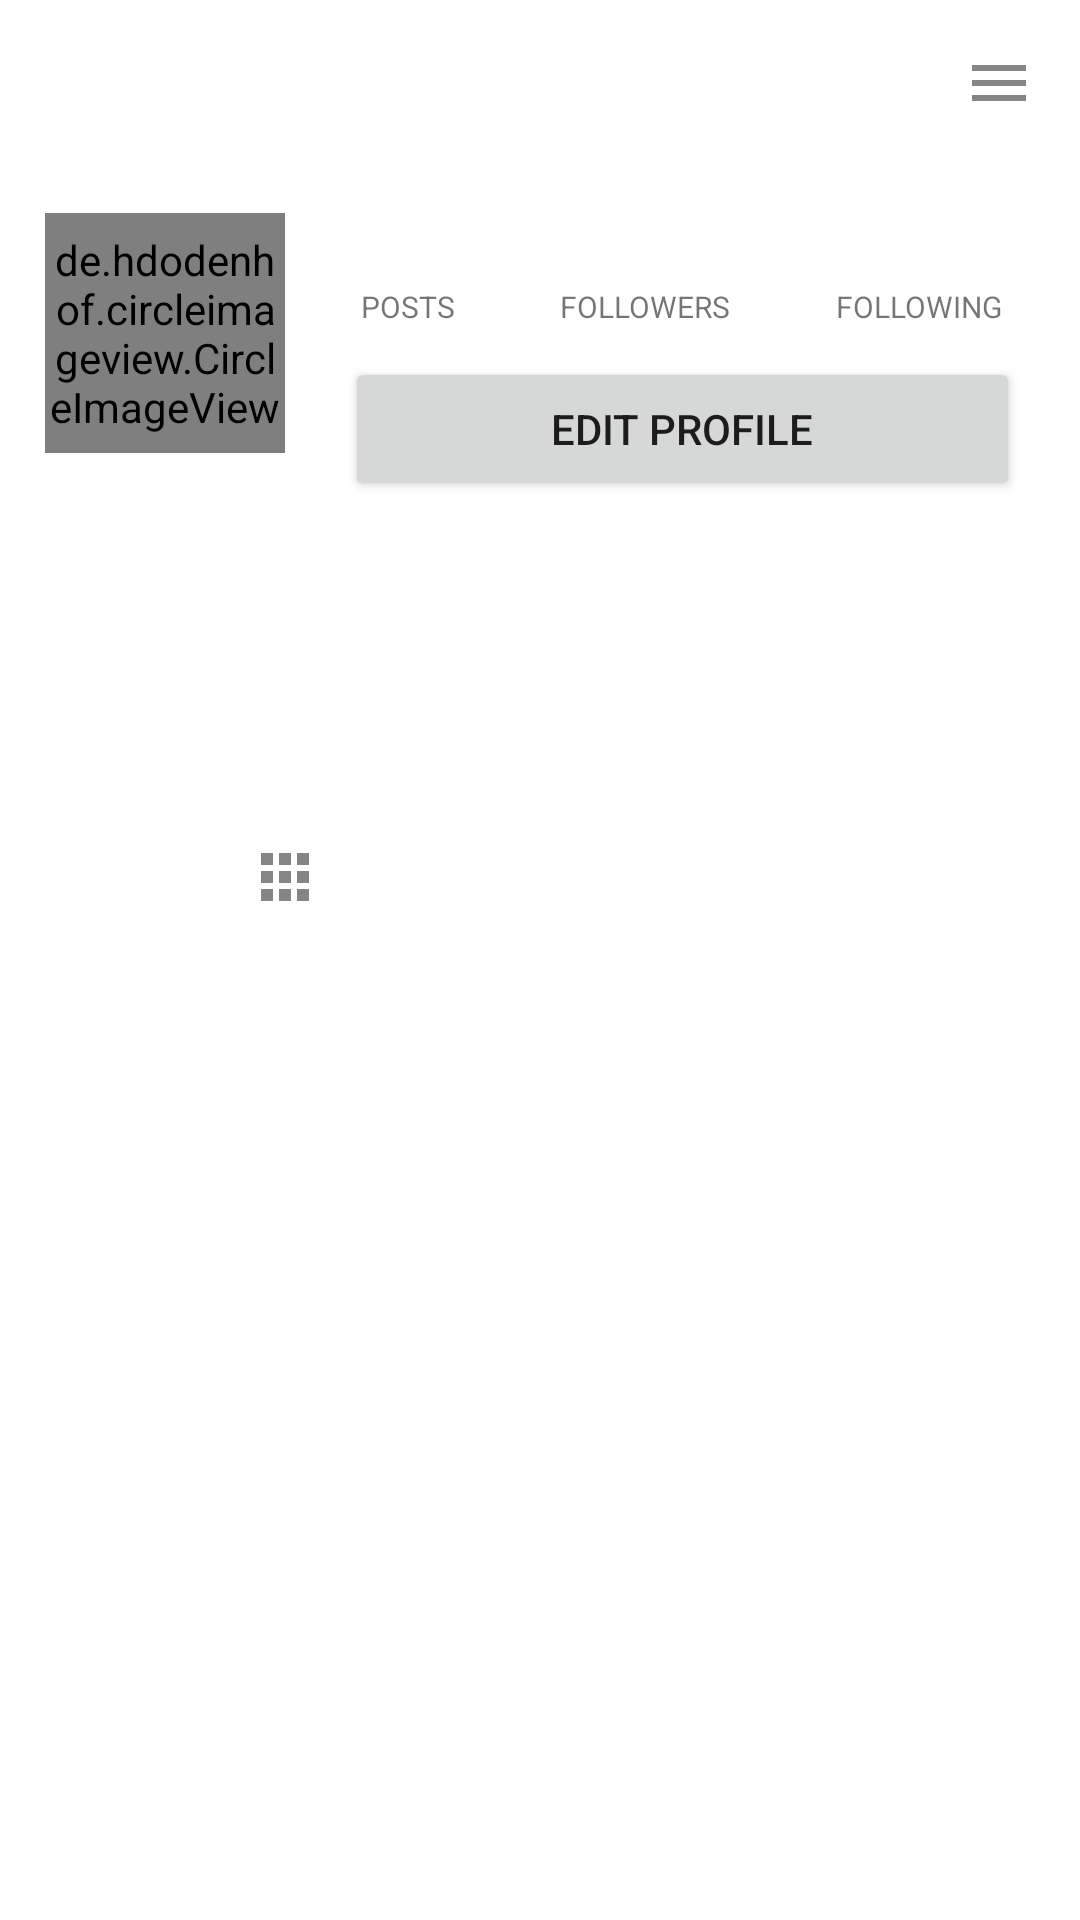

Icons on this 1080 x 1920 Android screen, each with its box as (x1, y1, x2, y2):
options: (972, 65, 1026, 101)
pictures: (261, 853, 309, 901)
